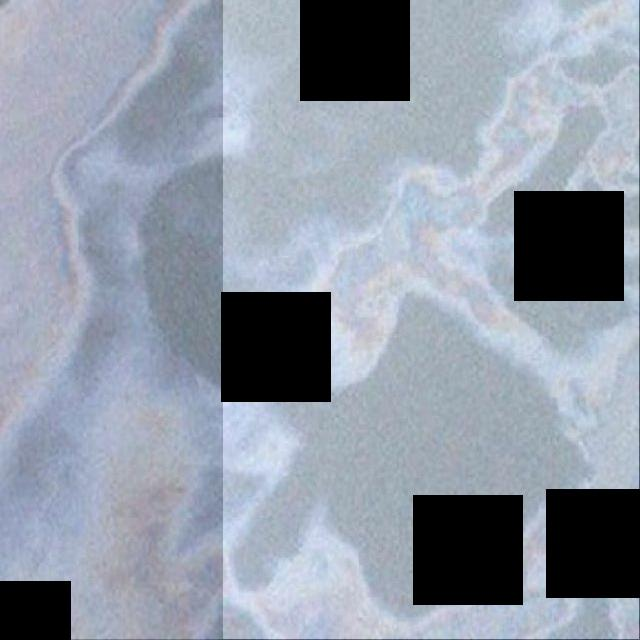oil spill: (223, 1, 640, 639), (0, 1, 269, 639)
